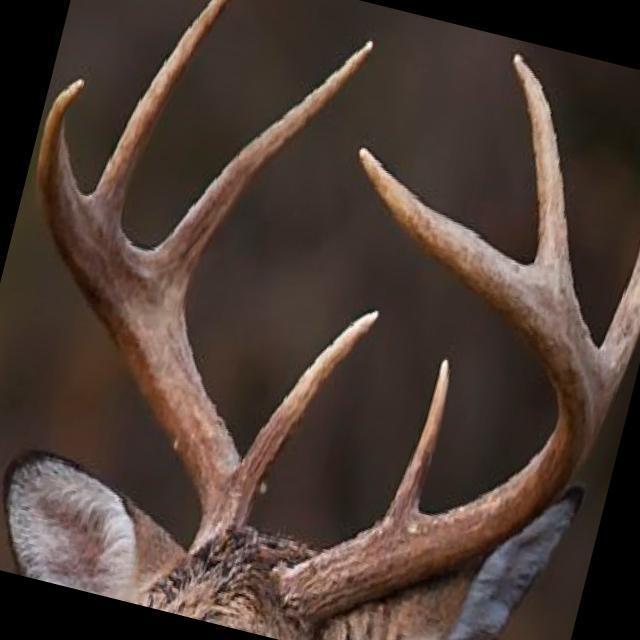L-F: (273, 144, 595, 633)
L-G1: (386, 355, 450, 515)
L-G2: (597, 245, 640, 402)
L-G3: (512, 50, 570, 279)
R-F: (36, 73, 253, 567)
R-G1: (238, 310, 382, 496)
R-G2: (158, 38, 375, 287)
R-G3: (91, 0, 230, 218)
